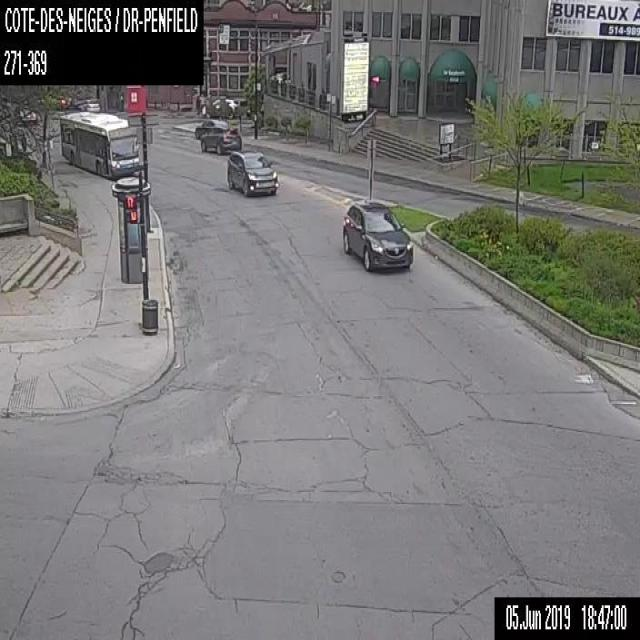bus: (58, 108, 139, 177)
vehicle: (342, 201, 412, 271), (226, 150, 276, 194), (200, 124, 241, 154), (202, 95, 238, 117), (194, 118, 228, 138)
